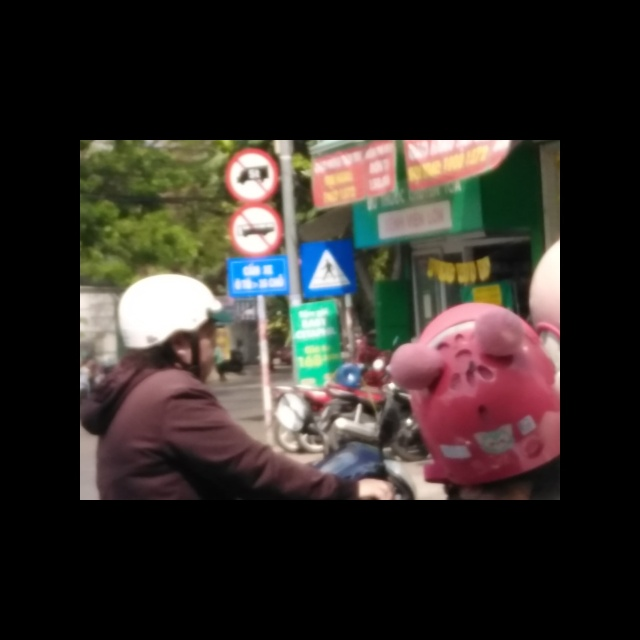Cấm xe tải: (224, 147, 279, 204)
Cấm xe xe khách: (229, 203, 284, 258)
Đường dành cho người đi bộ: (299, 239, 356, 295)
